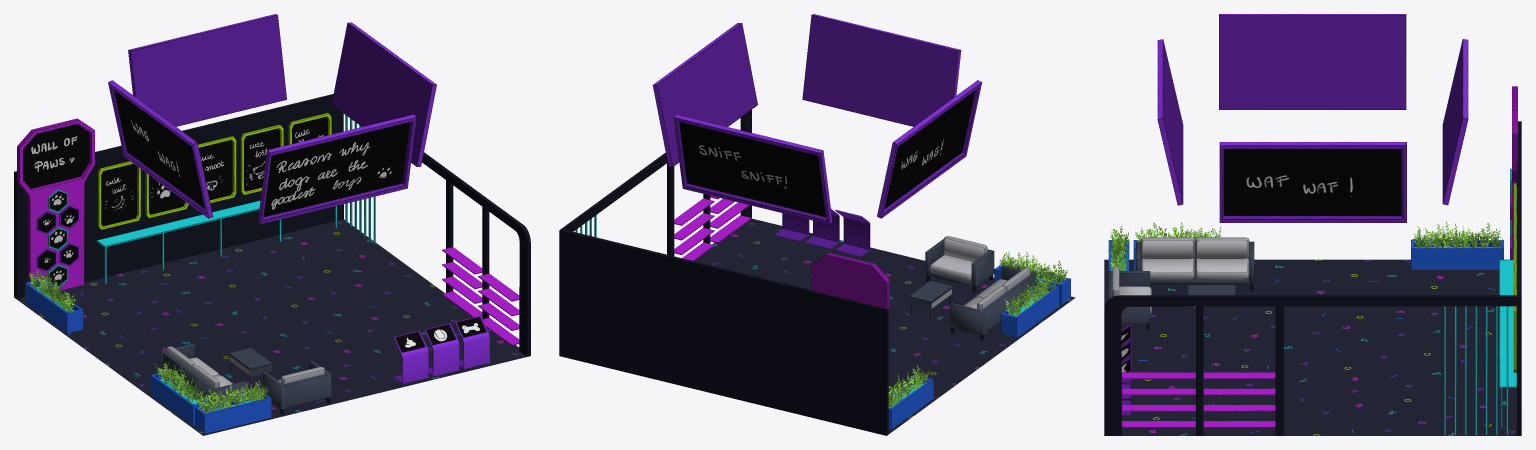
Rendered from ExpoBooth_Kiiba.glb.
The picture shows the model from 3 angles, left to right: view 1: azimuth 30°, elevation 25°; view 2: azimuth 150°, elevation 25°; view 3: azimuth 270°, elevation 25°; orthographic projection. The views are drawn at different scales.
Visible parts, largest first — view 1: Floor, InfoHoldingMaterials, PutYourInfoHere, Walls, FlowerPots, Couch, Plants, Table; view 2: Walls, InfoHoldingMaterials, Floor, PutYourInfoHere, Couch, FlowerPots, Plants, Table; view 3: Floor, InfoHoldingMaterials, Walls, PutYourInfoHere, Couch, FlowerPots, Plants, Table.
Part boxes in pixels (box(x1,y1,x2,y2)): Floor: box(16, 219, 526, 435); InfoHoldingMaterials: box(17, 14, 489, 384); PutYourInfoHere: box(23, 90, 485, 352); Walls: box(14, 94, 530, 356); FlowerPots: box(25, 280, 271, 433); Couch: box(160, 343, 331, 414); Plants: box(29, 269, 268, 412); Table: box(229, 348, 272, 386); Walls: box(559, 109, 888, 435); InfoHoldingMaterials: box(652, 14, 982, 316); Floor: box(694, 218, 1075, 433); PutYourInfoHere: box(679, 91, 974, 216); Couch: box(925, 236, 1036, 340); FlowerPots: box(888, 263, 1070, 429); Plants: box(888, 251, 1067, 408); Table: box(909, 280, 952, 319); Floor: box(1104, 259, 1516, 435); InfoHoldingMaterials: box(1121, 14, 1517, 415); Walls: box(1104, 121, 1521, 435); PutYourInfoHere: box(1121, 149, 1400, 372); Couch: box(1108, 237, 1254, 329); FlowerPots: box(1108, 240, 1503, 270); Plants: box(1108, 221, 1502, 270); Table: box(1188, 285, 1235, 316).
Size of the model in its own units: 8 by 5.7 by 8.
8 materials, 8 textured.
